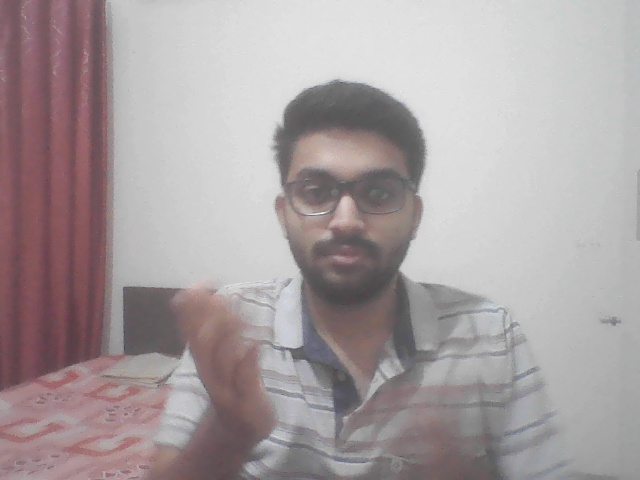what: (153, 263, 551, 464)
